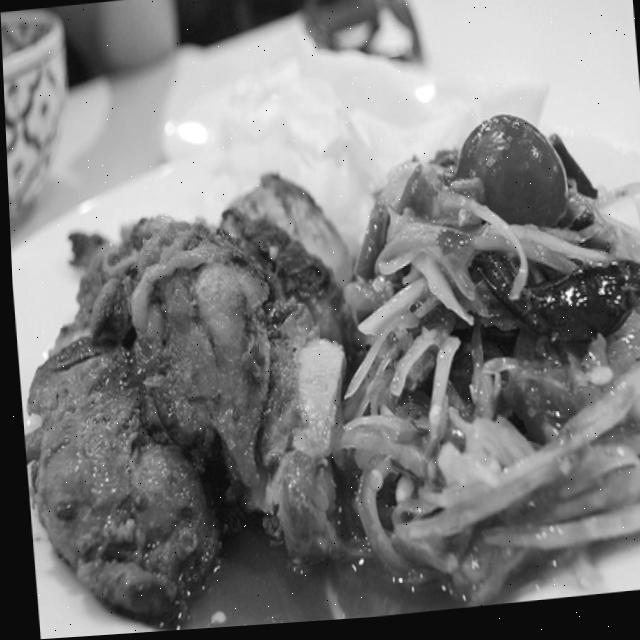蔬菜料理: (3, 57, 640, 640)
